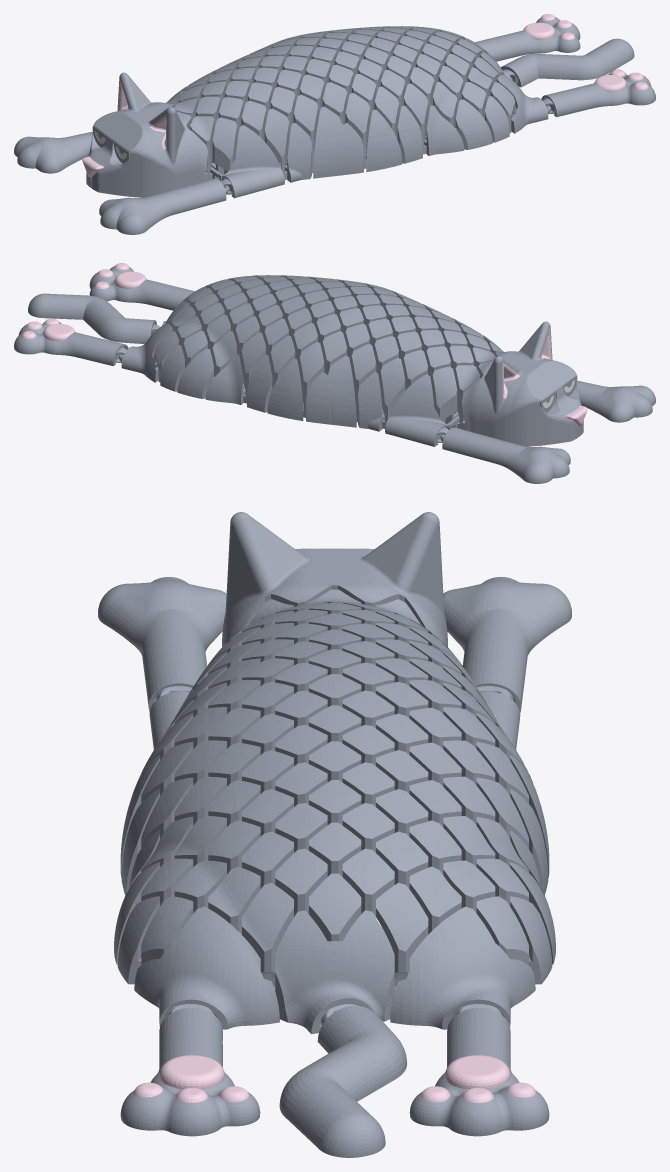
Rendered from gato_flexi_3.glb.
The picture shows the model from 3 angles, top to bottom: view 1: azimuth 30°, elevation 25°; view 2: azimuth 150°, elevation 25°; view 3: azimuth 270°, elevation 25°; orthographic projection. The views are drawn at different scales.
Visible parts, largest first — view 1: gris, rosado; view 2: gris, rosado; view 3: gris, rosado.
Part boxes in pixels (left/top/right/bottom): gris: left=14, top=17, right=655, bottom=234; rosado: left=82, top=14, right=648, bottom=177; gris: left=14, top=266, right=655, bottom=483; rosado: left=21, top=263, right=587, bottom=426; gris: left=98, top=512, right=571, bottom=1157; rosado: left=133, top=1055, right=536, bottom=1102.
Size of the model in its own units: 0.2227 by 0.0324 by 0.0795.
